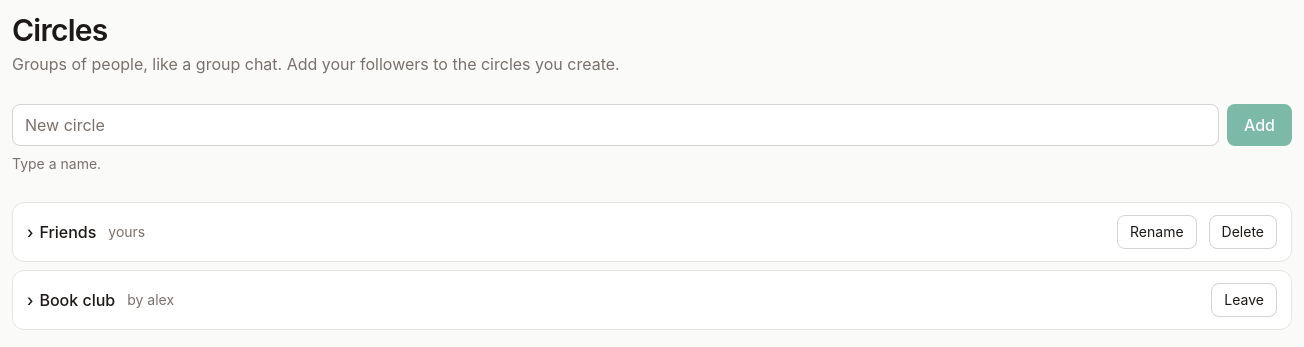
Test: Circles › deletes a circle you own after confirming
This screenshot has width=1304, height=347.
What coordinates should you click on to do the following:
click the button with aria-label "Delete Friends"
I would click on:
 (1243, 232)
Its box is 1209,215 -> 1277,249.
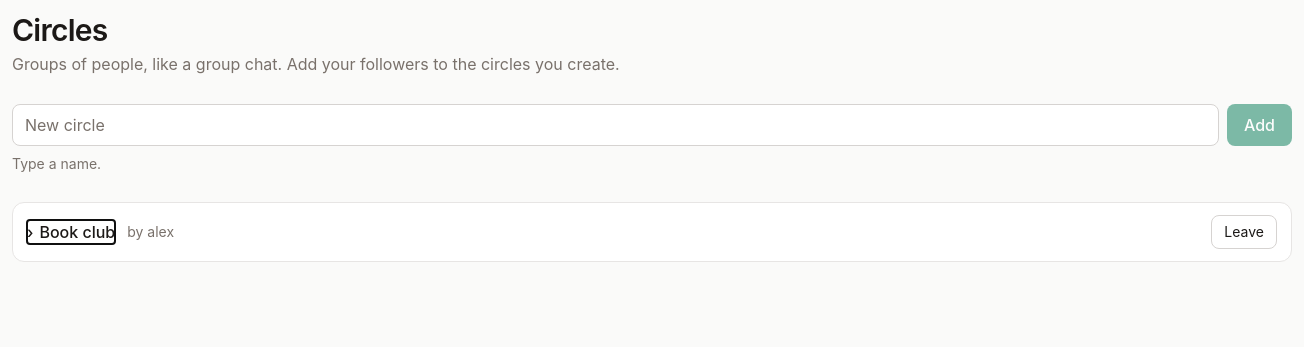
Expected: the button "› Book club" is shown, 27,220 -> 115,244
Expected: the button "Friends" is gone
